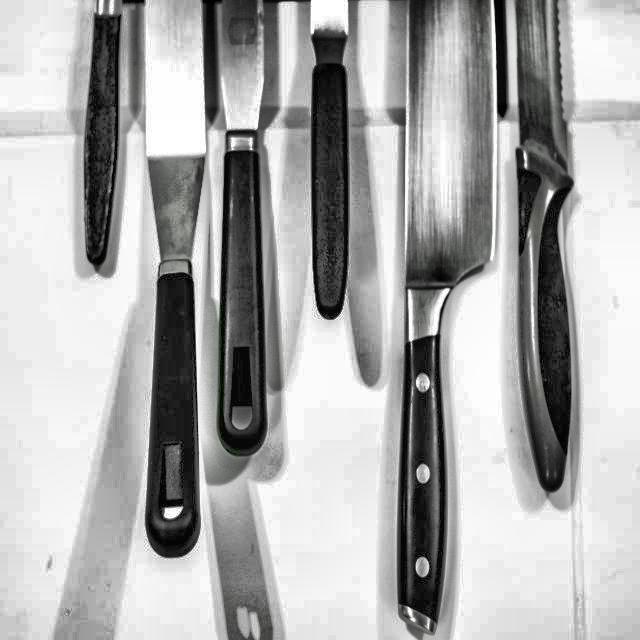knife: (402, 0, 490, 640), (498, 0, 574, 498)
